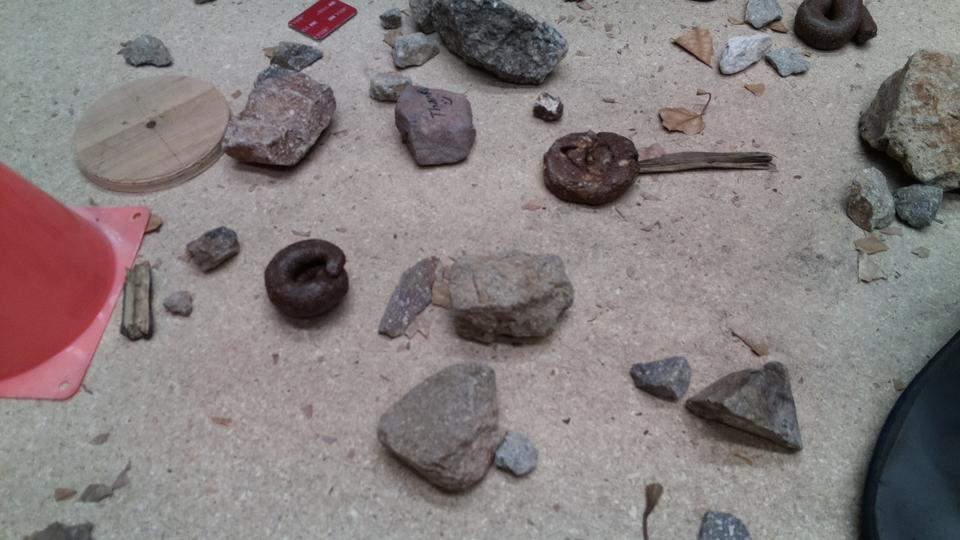poop: (537, 128, 643, 208), (262, 235, 352, 327), (790, 1, 879, 54)
